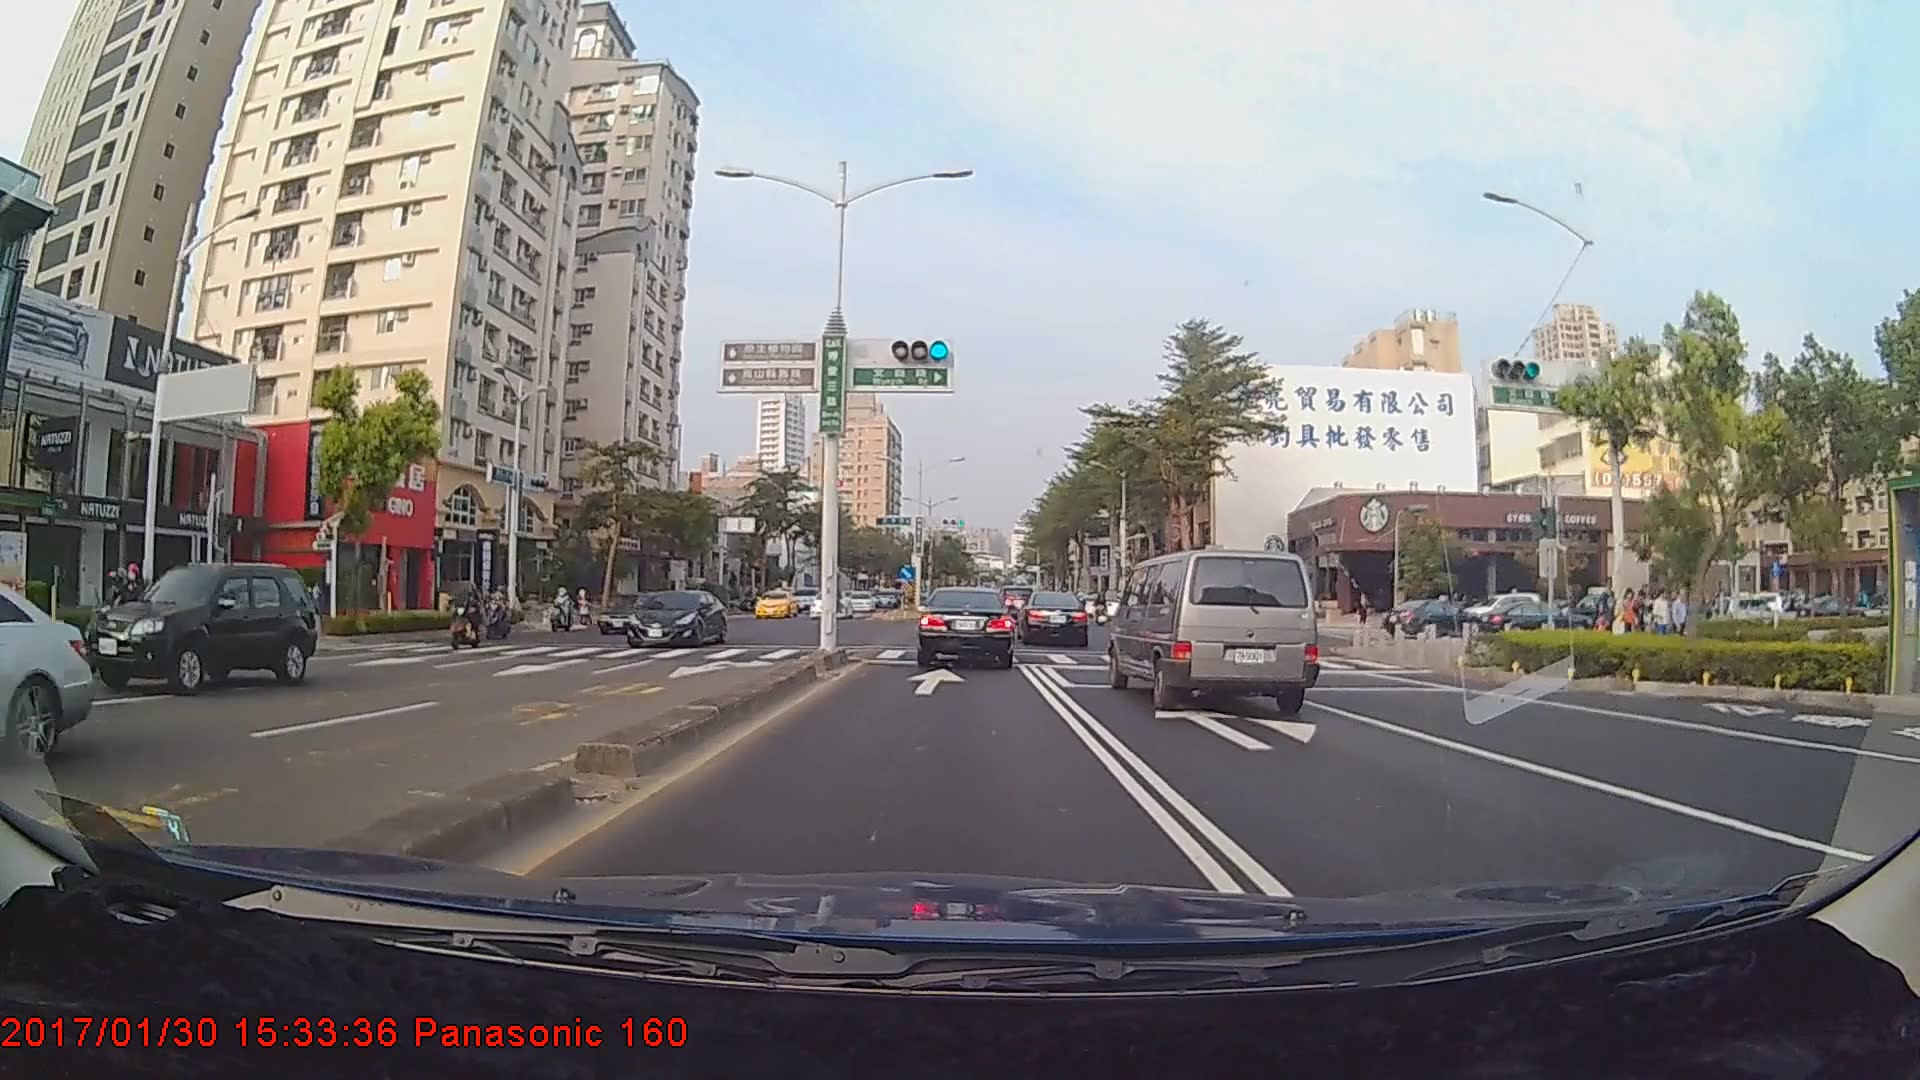pedestrian: (1671, 585, 1693, 649), (1653, 588, 1673, 646)
rider: (90, 556, 158, 650), (444, 579, 493, 654)
vehicle: (1107, 545, 1320, 714), (81, 560, 319, 696), (0, 562, 94, 782), (916, 586, 1016, 666), (622, 589, 728, 651), (1017, 590, 1089, 646), (1384, 598, 1470, 643), (595, 587, 676, 630), (806, 586, 856, 619), (752, 587, 799, 617), (845, 590, 875, 613)
